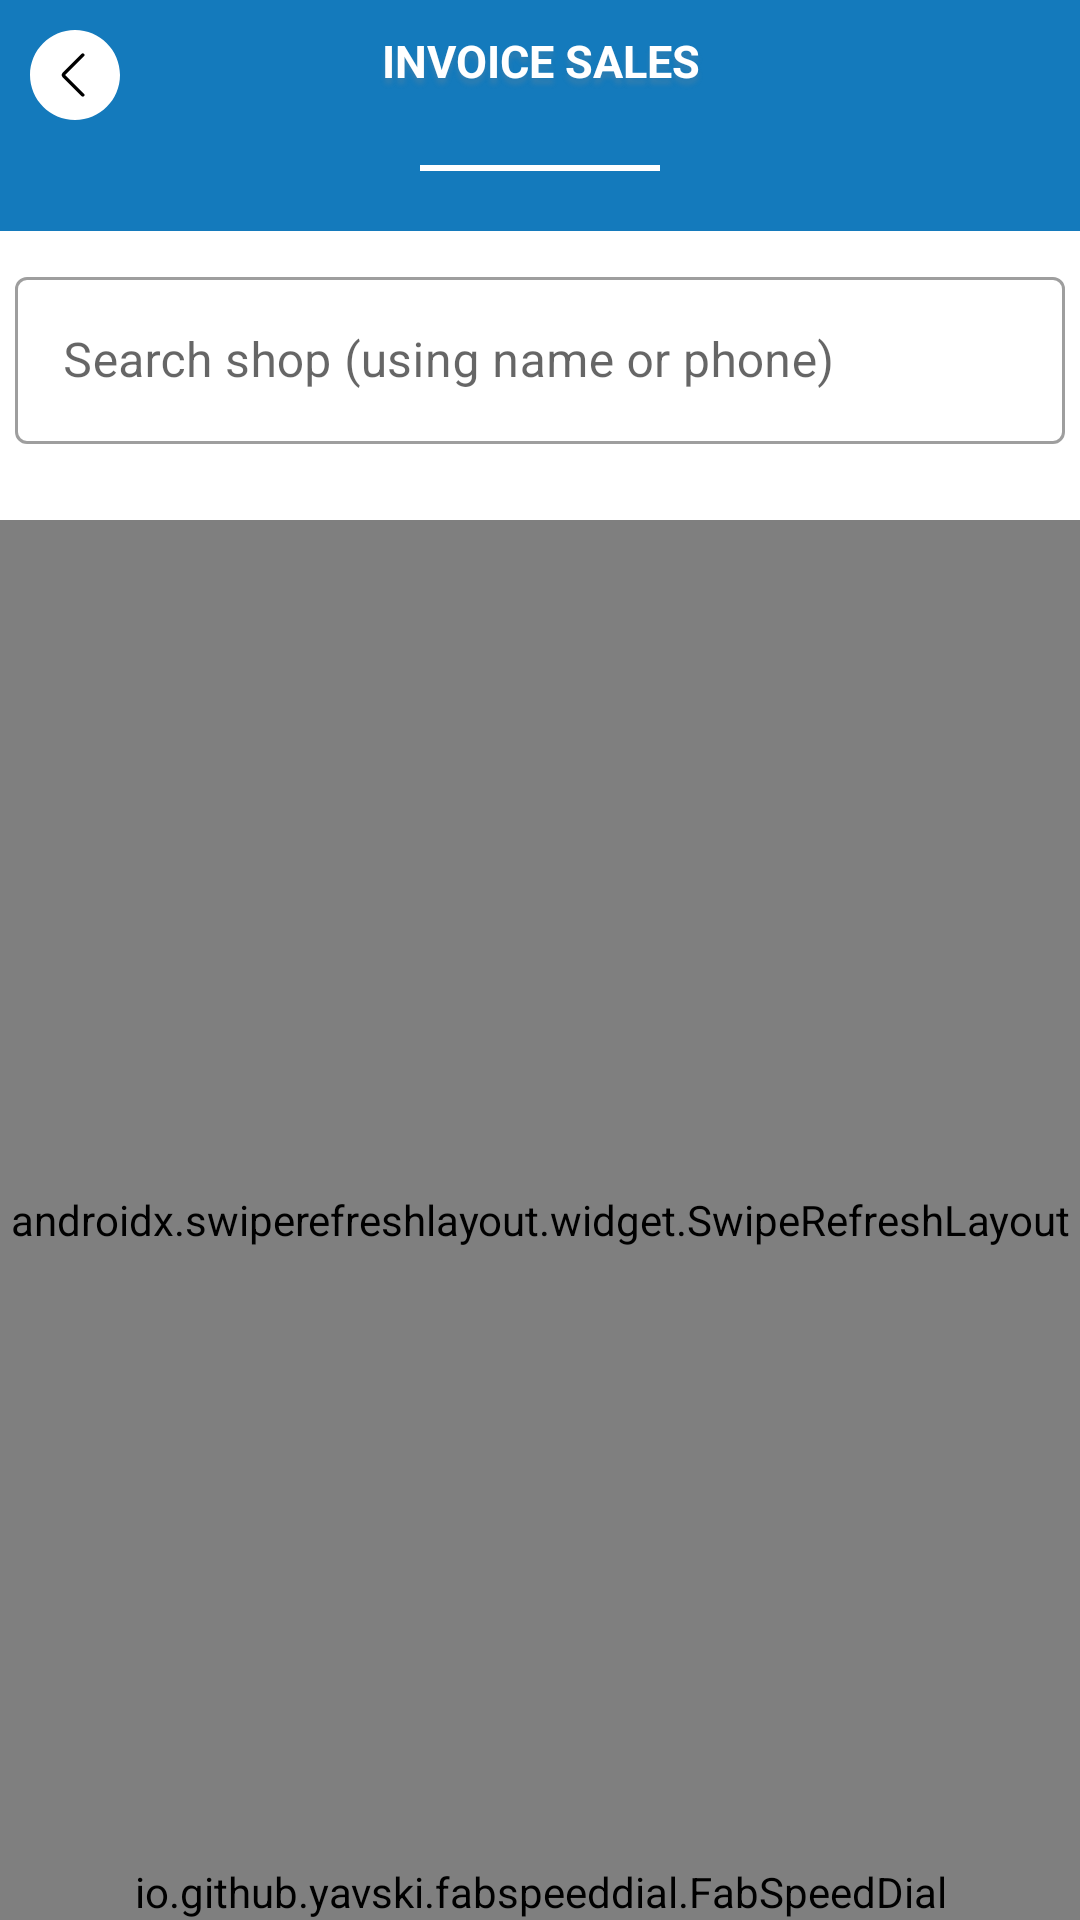

Icons on this 1080px×1920px Android screen, each with the point to tap as [x,y]:
left arrow: [75,75]
